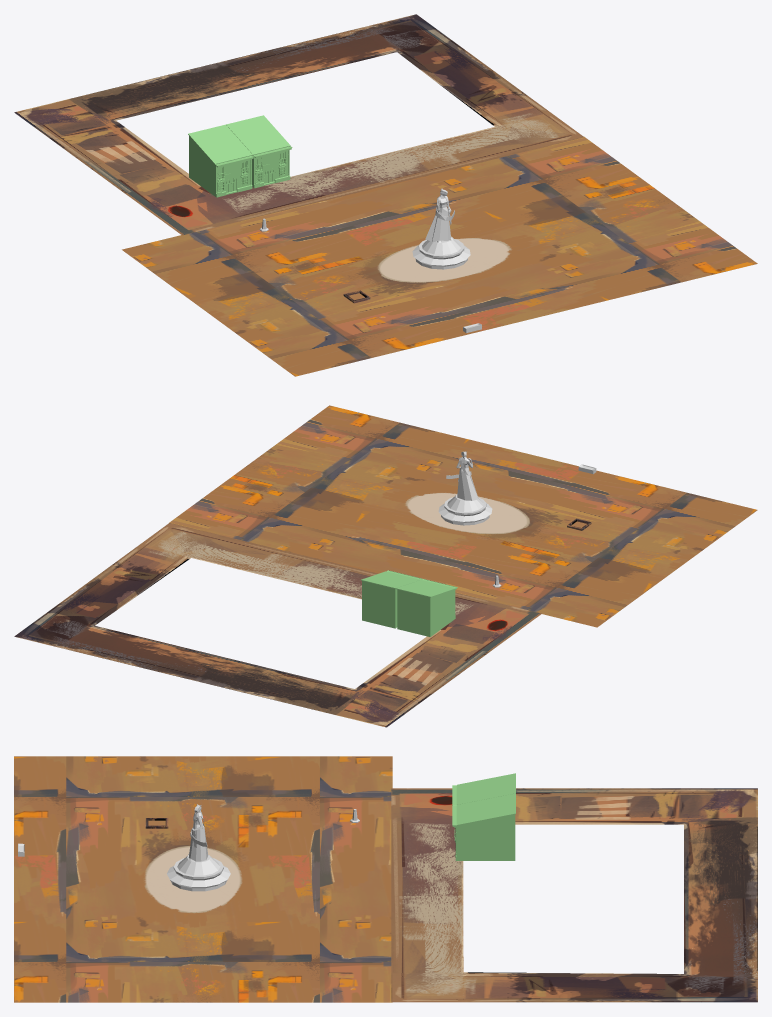
File: callesmejoradas.fbx
3 views of the same model, one above another, from view 1: azimuth 30°, elevation 25°; view 2: azimuth 150°, elevation 25°; view 3: azimuth 270°, elevation 25° (orthographic). The views are drawn at different scales.
Visible parts, largest first — view 1: plaza, Plane, Cube.015, Cube.001, Cube.004; view 2: plaza, Plane, Cube.015, Cube.001, Cube.004; view 3: plaza, Plane, Cube.001, Cube.004, Cube.015.
Boxes of the visible parts, x1,y1,x2,y2 form: plaza: (122,136,757,376); Plane: (14,14,583,235); Cube.015: (188,124,254,197); Cube.001: (226,115,292,188); Cube.004: (412,188,470,269); plaza: (169,405,757,627); Plane: (14,523,541,727); Cube.015: (396,579,457,636); Cube.001: (361,570,422,628); Cube.004: (438,451,492,525); plaza: (14,756,392,1002); Plane: (391,788,757,1002); Cube.001: (452,793,515,860); Cube.004: (167,804,230,891); Cube.015: (452,773,515,835).
Bounding box in the file's own units: 7755 × 1115 × 9899.
Materials: 3 (2 with a texture image).
